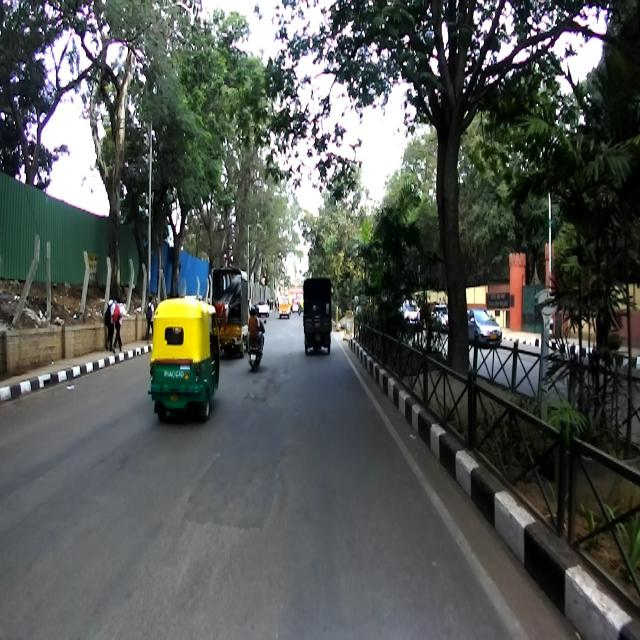autorickshaw: (148, 297, 218, 423)
